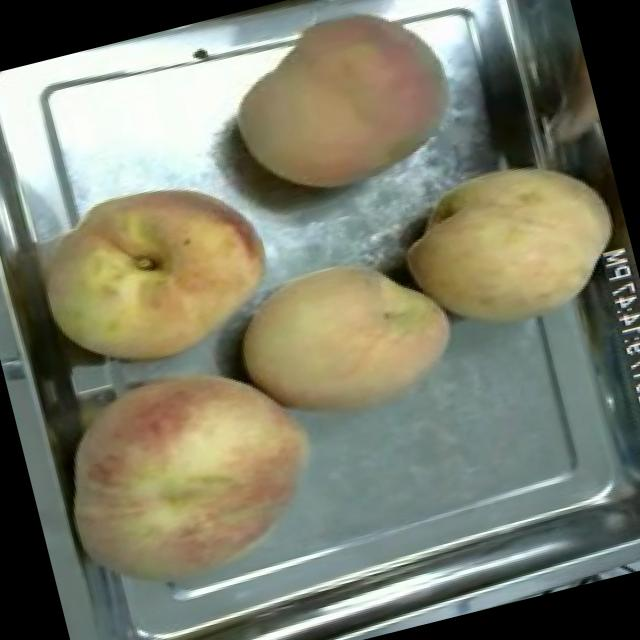Fruit: (30, 323, 350, 627), (13, 147, 294, 399), (205, 0, 470, 219), (381, 131, 640, 354), (214, 228, 476, 446)
